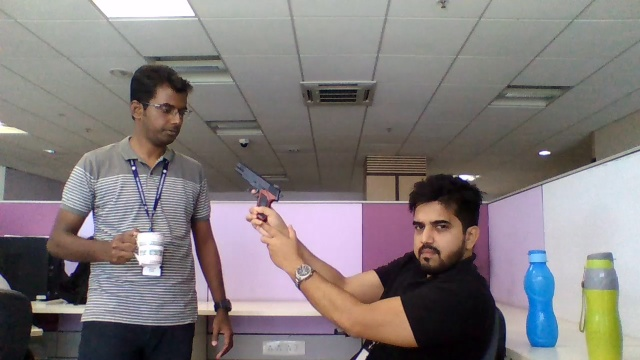gun: (233, 160, 284, 207)
